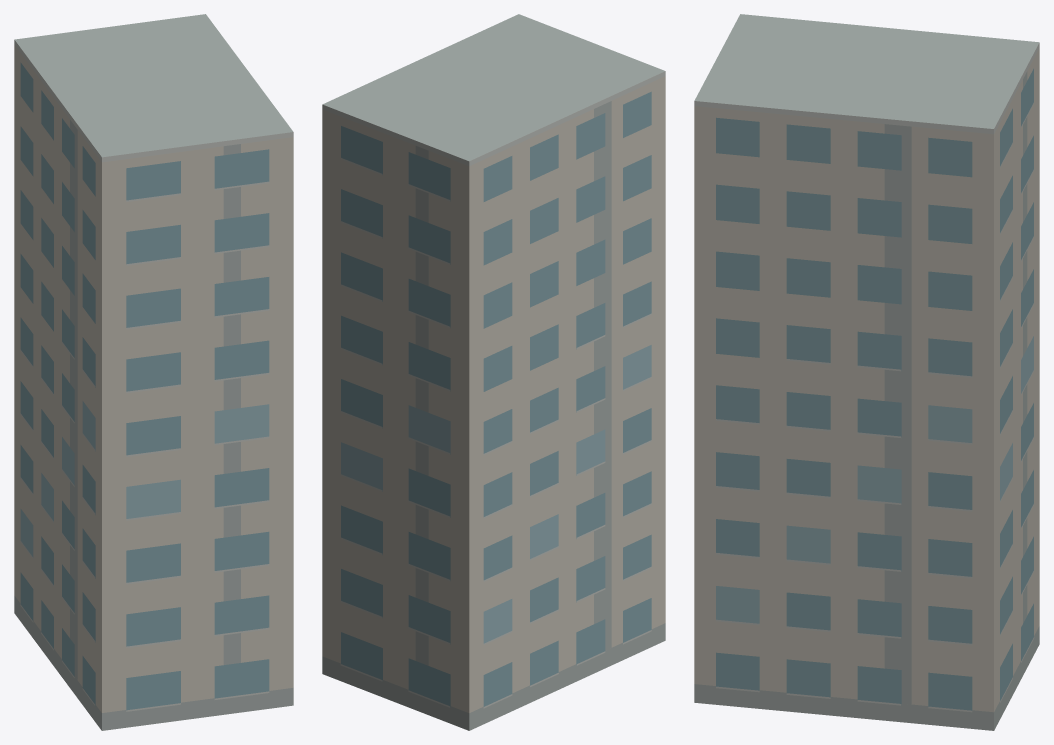
File: residential-0132dd78-a097-4d3a-b760-237fd8345689.glb
3 views of the same model, side by side, from view 1: azimuth 30°, elevation 25°; view 2: azimuth 150°, elevation 25°; view 3: azimuth 270°, elevation 25° (orthographic). The views are drawn at different scales.
Parts seen in each view (by area): view 1: residential-0132dd78-a097-4d3a-b760-237fd8345689.tmp; view 2: residential-0132dd78-a097-4d3a-b760-237fd8345689.tmp; view 3: residential-0132dd78-a097-4d3a-b760-237fd8345689.tmp.
Part boxes in pixels (left/top/right/bottom): residential-0132dd78-a097-4d3a-b760-237fd8345689.tmp: left=14, top=14, right=293, bottom=730; residential-0132dd78-a097-4d3a-b760-237fd8345689.tmp: left=322, top=14, right=665, bottom=730; residential-0132dd78-a097-4d3a-b760-237fd8345689.tmp: left=694, top=14, right=1039, bottom=730.
Bounding box in the file's own units: 11.5 × 28 × 14.57.
